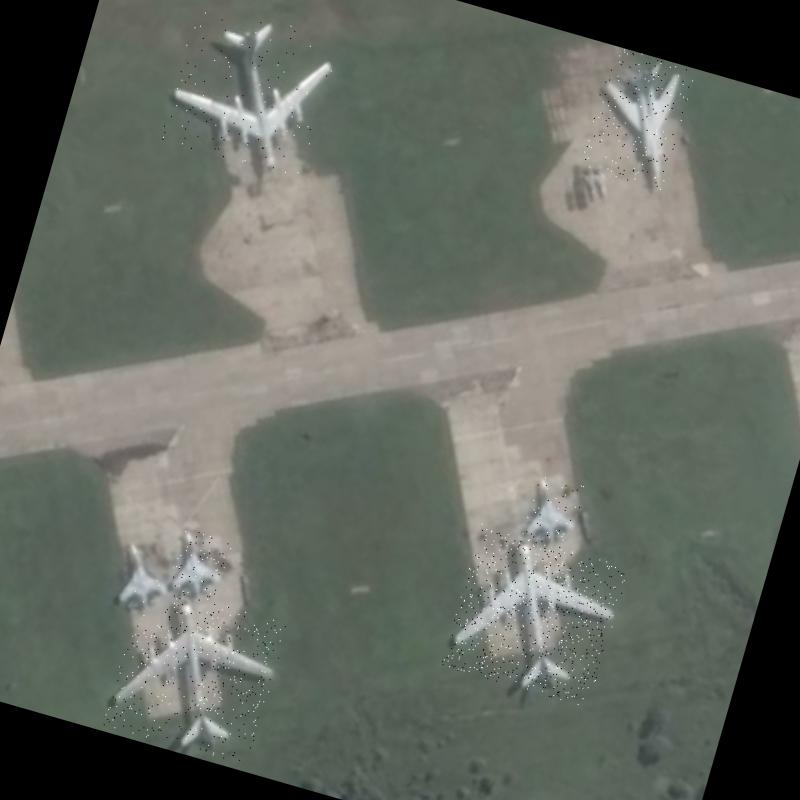A1: (108, 538, 178, 618), (166, 527, 233, 602), (520, 473, 586, 548)
A12: (578, 45, 696, 190)
A17: (440, 523, 630, 708), (102, 582, 288, 766), (156, 0, 340, 181)
